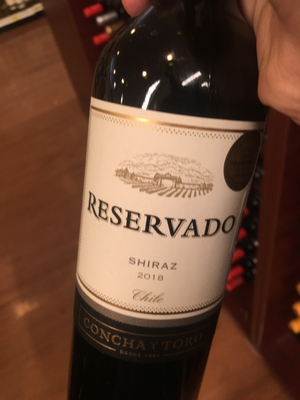reservado shiraz: (75, 19, 259, 400)
